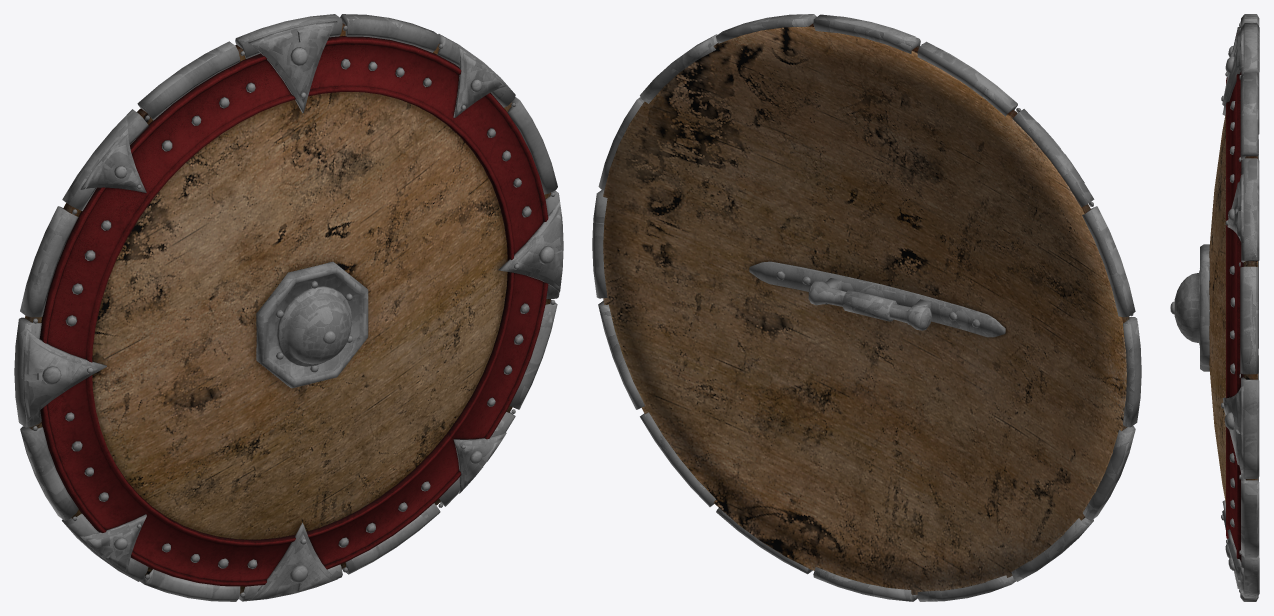
The model's file is color1.glb.
3 renders of one model, left to right at view 1: azimuth 30°, elevation 25°; view 2: azimuth 150°, elevation 25°; view 3: azimuth 270°, elevation 25°, orthographic. The views are drawn at different scales.
Visible parts, largest first — view 1: Escudo_Madera.004, BandaRoja.003, Aro.003, Escudo_Triangulos.003, Centro.003, Remaches.003; view 2: Escudo_Madera.004, Aro.003, Agarradera.003; view 3: Aro.003, BandaRoja.003, Escudo_Madera.004, Escudo_Triangulos.003, Centro.003, Remaches.003.
Part boxes in pixels (x1,y1,x2,y2): Escudo_Madera.004: (25,23,550,593); BandaRoja.003: (39,36,548,586); Aro.003: (14,14,562,601); Escudo_Triangulos.003: (23,21,563,600); Centro.003: (256,261,368,388); Remaches.003: (42,47,554,583); Escudo_Madera.004: (603,23,1129,594); Aro.003: (592,14,1141,601); Agarradera.003: (749,261,1005,337); Aro.003: (1238,14,1259,601); BandaRoja.003: (1226,33,1243,561); Escudo_Madera.004: (1209,114,1257,502); Escudo_Triangulos.003: (1222,26,1243,593); Centro.003: (1174,244,1209,371); Remaches.003: (1170,46,1235,570).
Bounding box in the file's own units: 2 × 2 × 0.3027.
3 materials, 3 textured.
